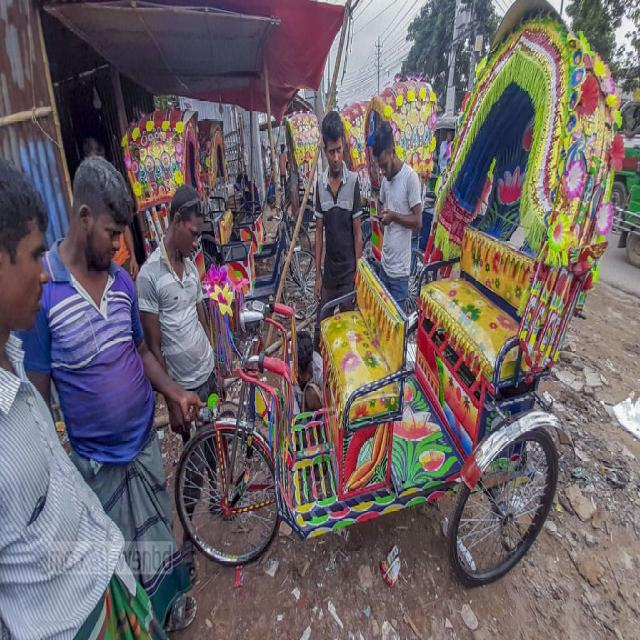Rickshaw: (179, 3, 631, 586)
